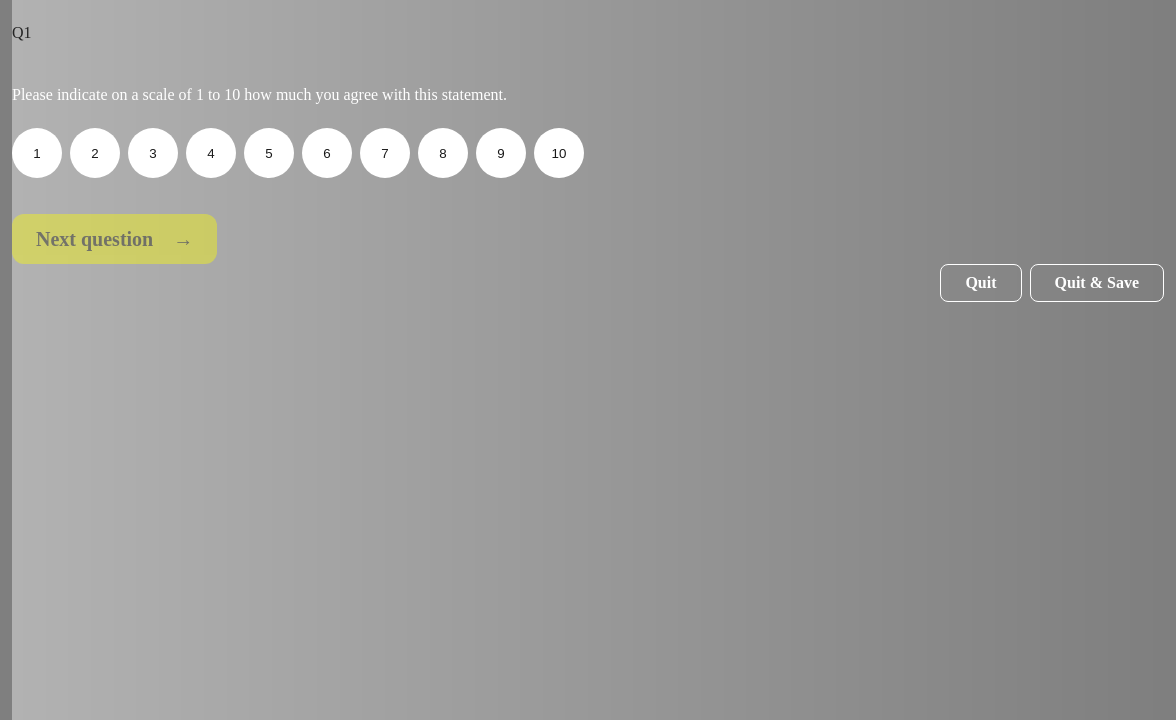
Scenario: QuestionForm › question completion with follow-up
Expected: the field labelled "Option1" is not shown
Expected: the button "Next question →" is disabled, [12, 214, 217, 264]
Click the radio button named "Rate 2" at (95, 153), box [70, 128, 120, 178]
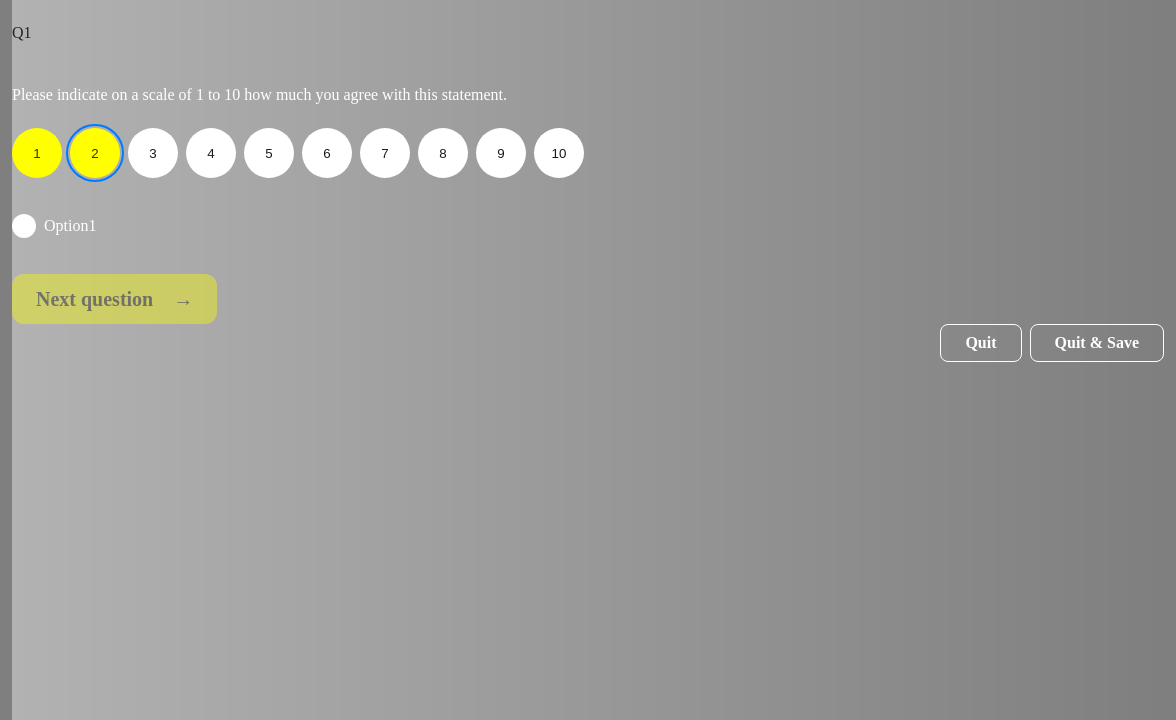
Expected: the button "Next question →" is disabled, [12, 274, 217, 324]
Now the radio button labelled "Option1" is shown
Click the radio button labelled "Option1" at (24, 226), box [12, 214, 36, 238]
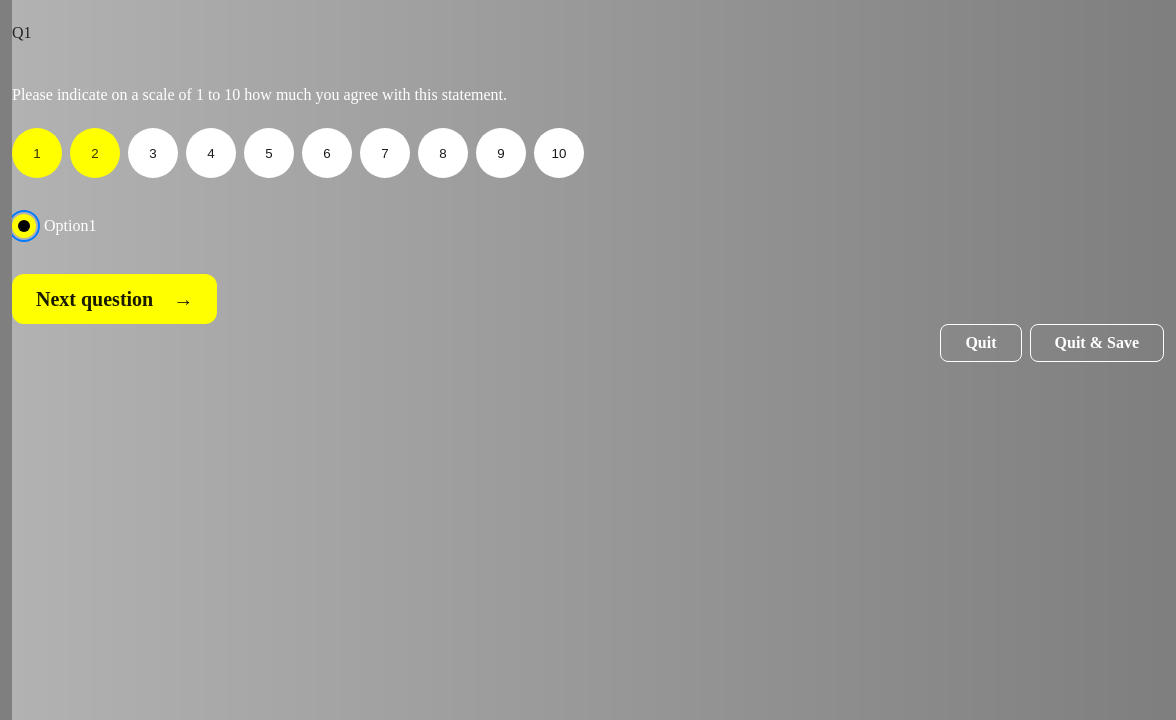
Now the button "Next question →" is enabled, box [12, 274, 217, 324]
